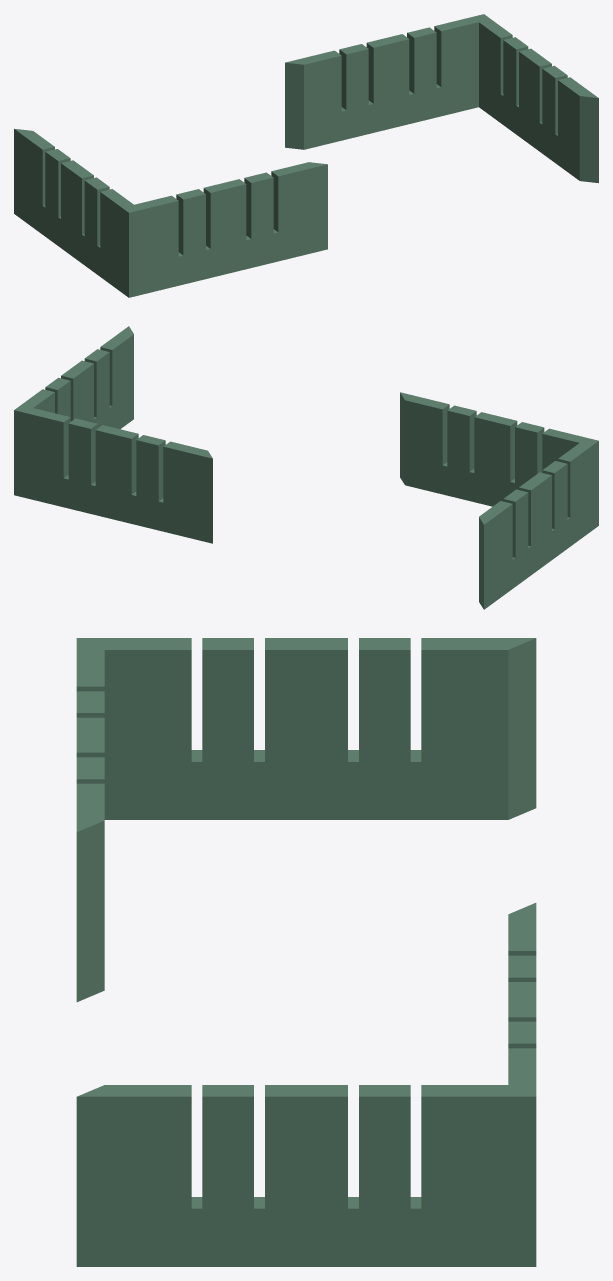
The model's file is exploded.glb.
The picture shows the model from 3 angles, top to bottom: view 1: azimuth 30°, elevation 25°; view 2: azimuth 150°, elevation 25°; view 3: azimuth 270°, elevation 25°; orthographic projection. The views are drawn at different scales.
Parts seen in each view (by area): view 1: L-guide-B, L-guide-A; view 2: L-guide-B, L-guide-A; view 3: L-guide-A, L-guide-B.
Boxes of the visible parts, <box> form: L-guide-B: <box>285,14,598,183</box>; L-guide-A: <box>14,128,327,297</box>; L-guide-B: <box>14,326,212,543</box>; L-guide-A: <box>400,392,598,609</box>; L-guide-A: <box>76,638,536,1001</box>; L-guide-B: <box>76,903,536,1266</box>.
Bounding box in the file's own units: 0.0694 × 0.012 × 0.0294.
